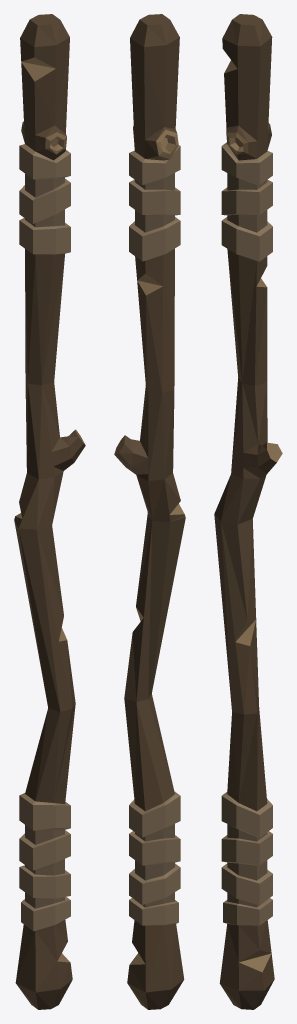
Rendered from adventure_SM_Wep_Staff_01.gltf.
3 renders of one model, left to right at view 1: azimuth 30°, elevation 25°; view 2: azimuth 210°, elevation 25°; view 3: azimuth 330°, elevation 25°, orthographic.
Parts seen in each view (by area): view 1: SM_Wep_Staff_01; view 2: SM_Wep_Staff_01; view 3: SM_Wep_Staff_01.
Boxes of the visible parts, left/top/right/bottom form: SM_Wep_Staff_01: left=14, top=14, right=85, bottom=1009; SM_Wep_Staff_01: left=114, top=14, right=185, bottom=1009; SM_Wep_Staff_01: left=214, top=14, right=282, bottom=1009.
Size of the model in its own units: 0.1286 by 1.85 by 0.1057.
Materials: 1 (1 with a texture image).
